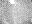person: (9, 1, 14, 5)
